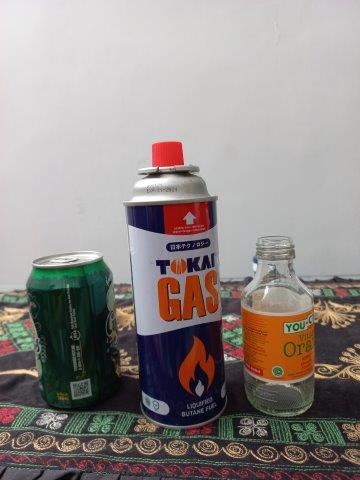botolkaca: (241, 238, 317, 414)
kaleng: (121, 142, 228, 428), (28, 251, 121, 411)
